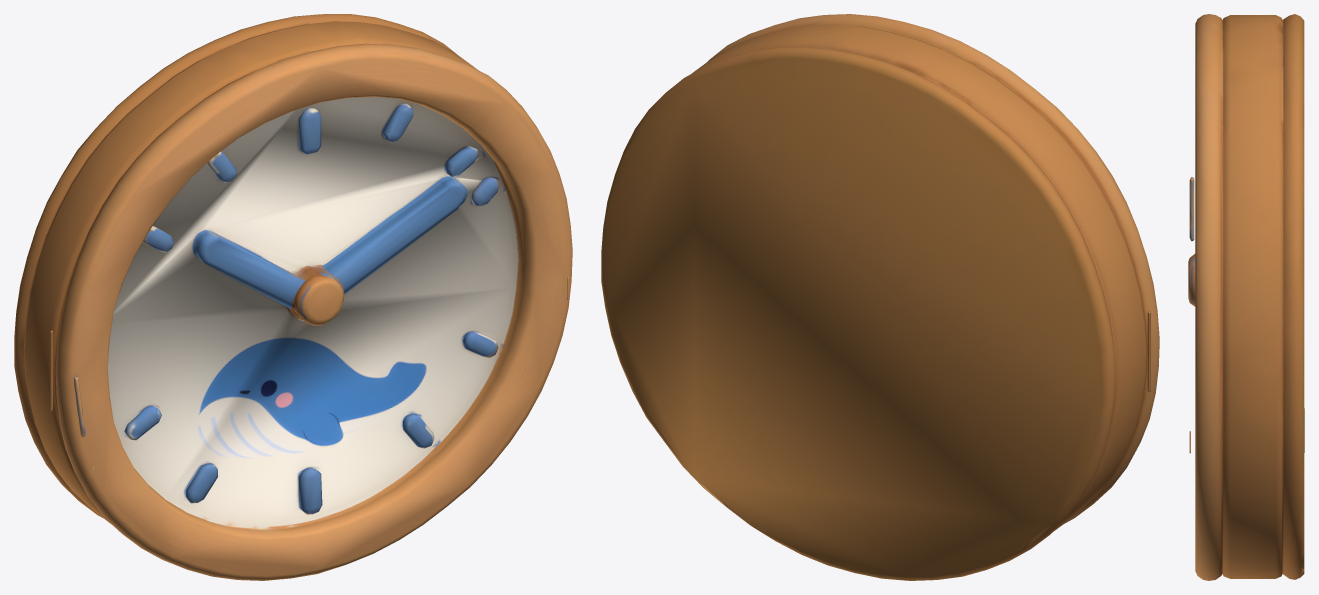
File: wall-clock.glb
The picture shows the model from 3 angles, left to right: view 1: azimuth 30°, elevation 25°; view 2: azimuth 150°, elevation 25°; view 3: azimuth 270°, elevation 25°; orthographic projection.
Visible parts, largest first — view 1: 鲸鱼壁钟静态总成; view 2: 鲸鱼壁钟静态总成; view 3: 鲸鱼壁钟静态总成.
Boxes of the visible parts, bbox=[...] form: 鲸鱼壁钟静态总成: bbox=[14, 14, 572, 580]; 鲸鱼壁钟静态总成: bbox=[601, 14, 1159, 580]; 鲸鱼壁钟静态总成: bbox=[1188, 14, 1304, 580].
Bounding box in the file's own units: 0.44 × 0.4263 × 0.0879.
Materials: 1 (1 with a texture image).
